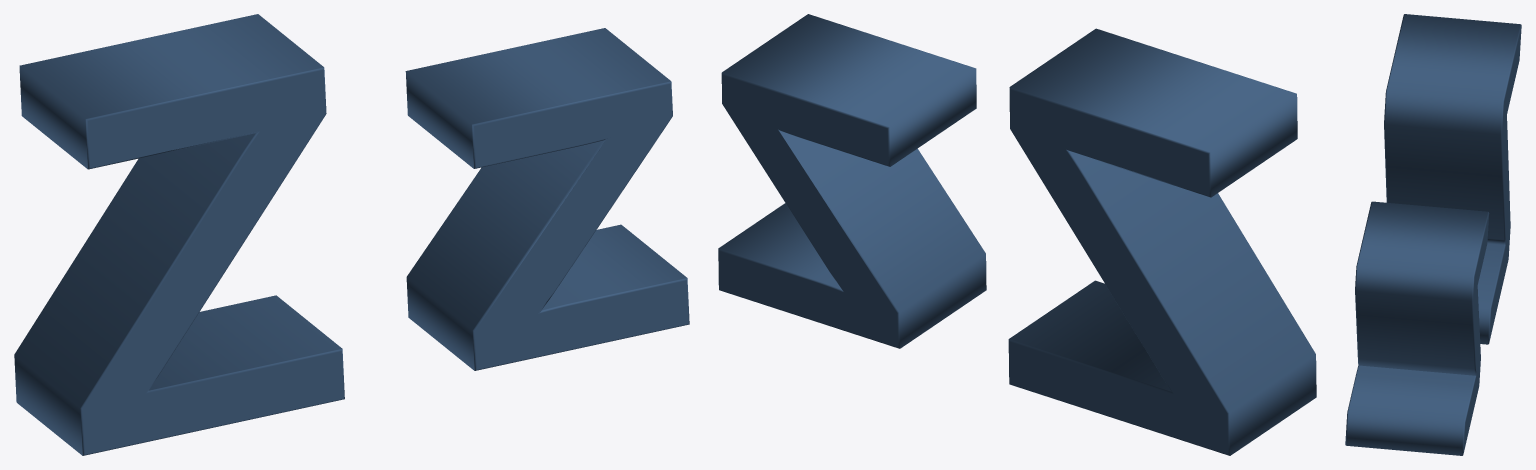
File: ObjectZ.fbx
The picture shows the model from 3 angles, left to right: view 1: azimuth 30°, elevation 25°; view 2: azimuth 150°, elevation 25°; view 3: azimuth 270°, elevation 25°; orthographic projection. The views are drawn at different scales.
Visible parts, largest first — view 1: Text; view 2: Text; view 3: Text.
Boxes of the visible parts, left/top/right/bottom form: Text: left=14, top=14, right=689, bottom=455; Text: left=718, top=14, right=1316, bottom=455; Text: left=1345, top=14, right=1521, bottom=455.
Bounding box in the file's own units: 258 × 142 × 91.1.
